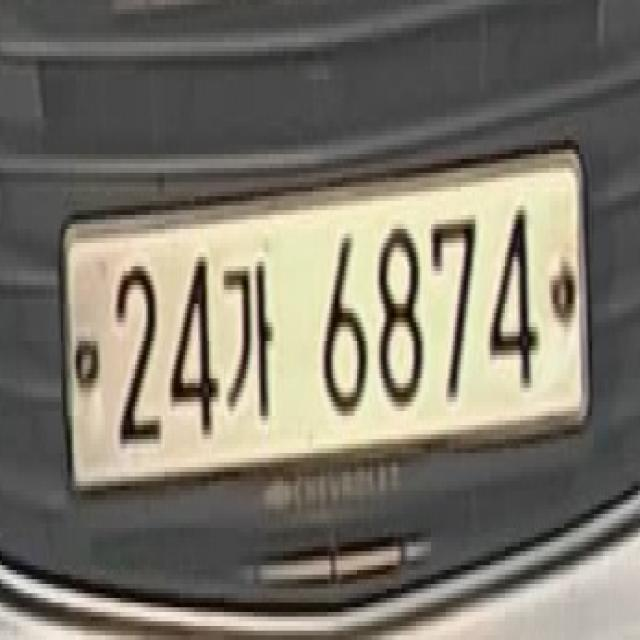2: (107, 254, 166, 465)
4: (485, 198, 545, 400), (164, 251, 223, 449)
6: (312, 228, 371, 418)
7: (432, 198, 479, 410)
8: (376, 208, 426, 414)
ga: (221, 242, 284, 438)
license_plate: (66, 153, 585, 497)
